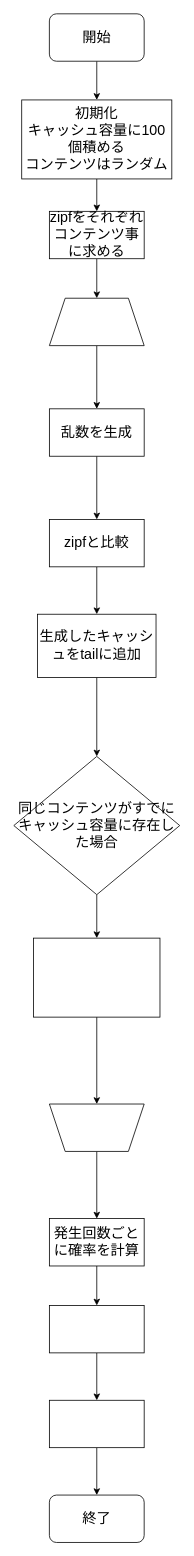
Image size: 194x1556. Some labels were removed from this diagram. Each missing label, with the centre of its shape:
"fopen" belongs at pixel 96 1329.
"fprintf" belongs at pixel 96 1423.
"一万回実験" belongs at pixel 96 321.
"元々存在した連結リストのキャッシュを削除" belongs at pixel 96 977.
"実験終了" belongs at pixel 96 1127.
